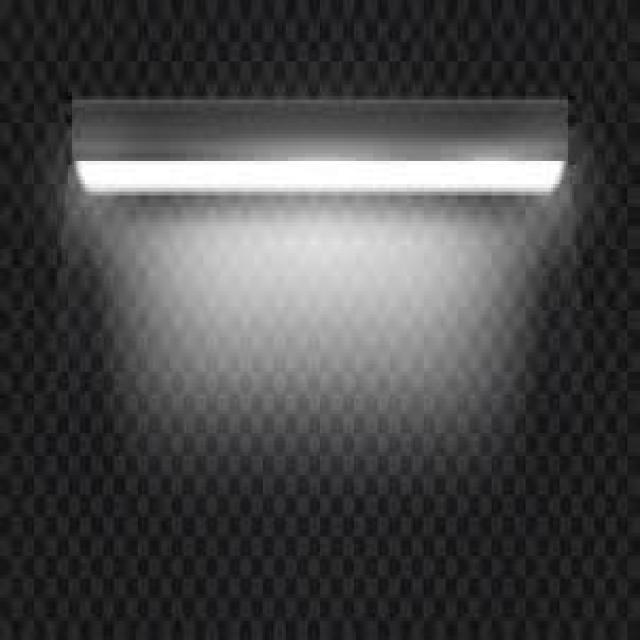tubelight_on: (77, 99, 568, 197)
